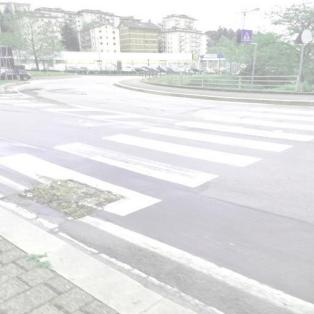Paso de Cebra: (33, 132, 267, 190)
